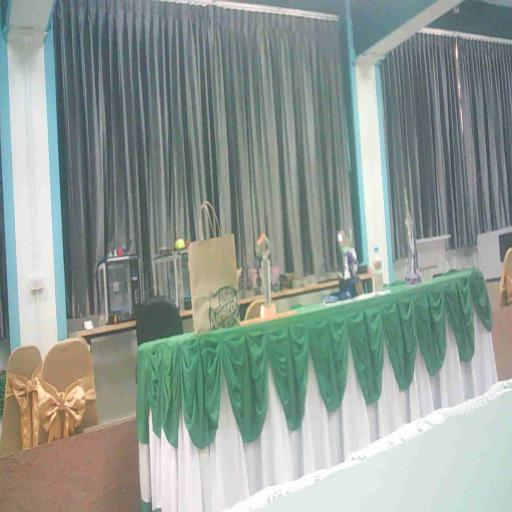bag: (183, 226, 242, 344)
